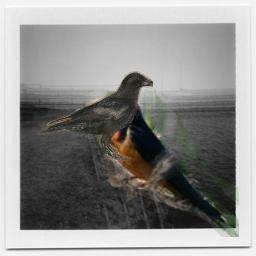Crow: (38, 71, 153, 161)
Swallow: (87, 89, 239, 237)
